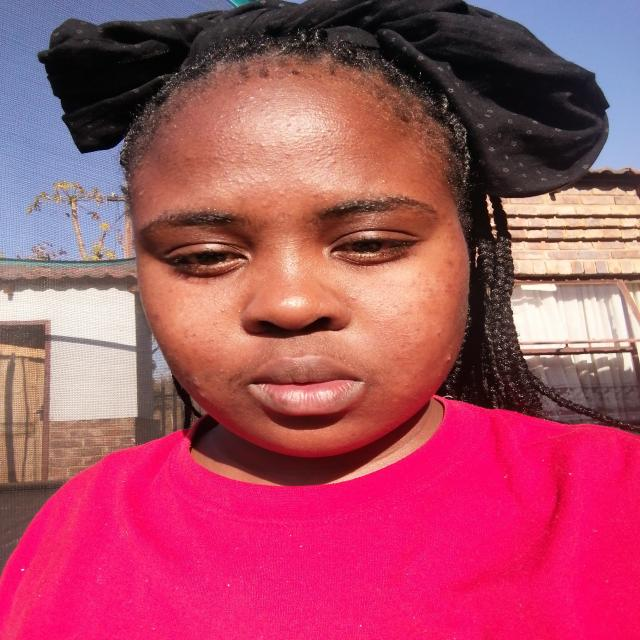Acne: (320, 127, 338, 137), (190, 377, 202, 388), (433, 327, 445, 338), (444, 281, 454, 294), (224, 134, 241, 141), (182, 332, 199, 338), (197, 392, 208, 401), (281, 136, 290, 147), (137, 188, 146, 198), (236, 116, 247, 124), (284, 152, 294, 160), (310, 192, 321, 199), (261, 176, 272, 183), (182, 154, 192, 161), (223, 170, 231, 178), (218, 368, 226, 376), (262, 201, 270, 209), (446, 355, 453, 364), (324, 150, 334, 156), (240, 194, 250, 200), (329, 159, 339, 165), (234, 106, 244, 112), (295, 176, 305, 182), (294, 126, 302, 133), (278, 190, 286, 197), (378, 179, 387, 185), (234, 178, 243, 184), (204, 358, 216, 362), (446, 260, 454, 266), (282, 112, 290, 118), (313, 157, 322, 162), (207, 338, 216, 343), (447, 343, 454, 349), (245, 95, 255, 99), (240, 157, 248, 162), (246, 141, 255, 145), (259, 143, 268, 147), (260, 108, 267, 113), (154, 314, 159, 321), (218, 115, 225, 120), (257, 86, 265, 90), (285, 124, 293, 128), (219, 308, 227, 312), (230, 158, 234, 165), (176, 356, 180, 363), (308, 148, 316, 151), (264, 100, 269, 104), (155, 323, 160, 327)
Englarged-Pores: (348, 284, 410, 349), (225, 324, 253, 346)
